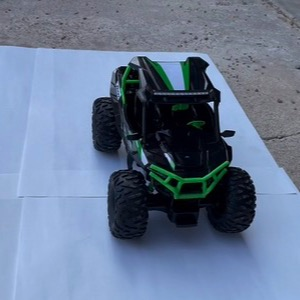polaris: (91, 56, 259, 240)
